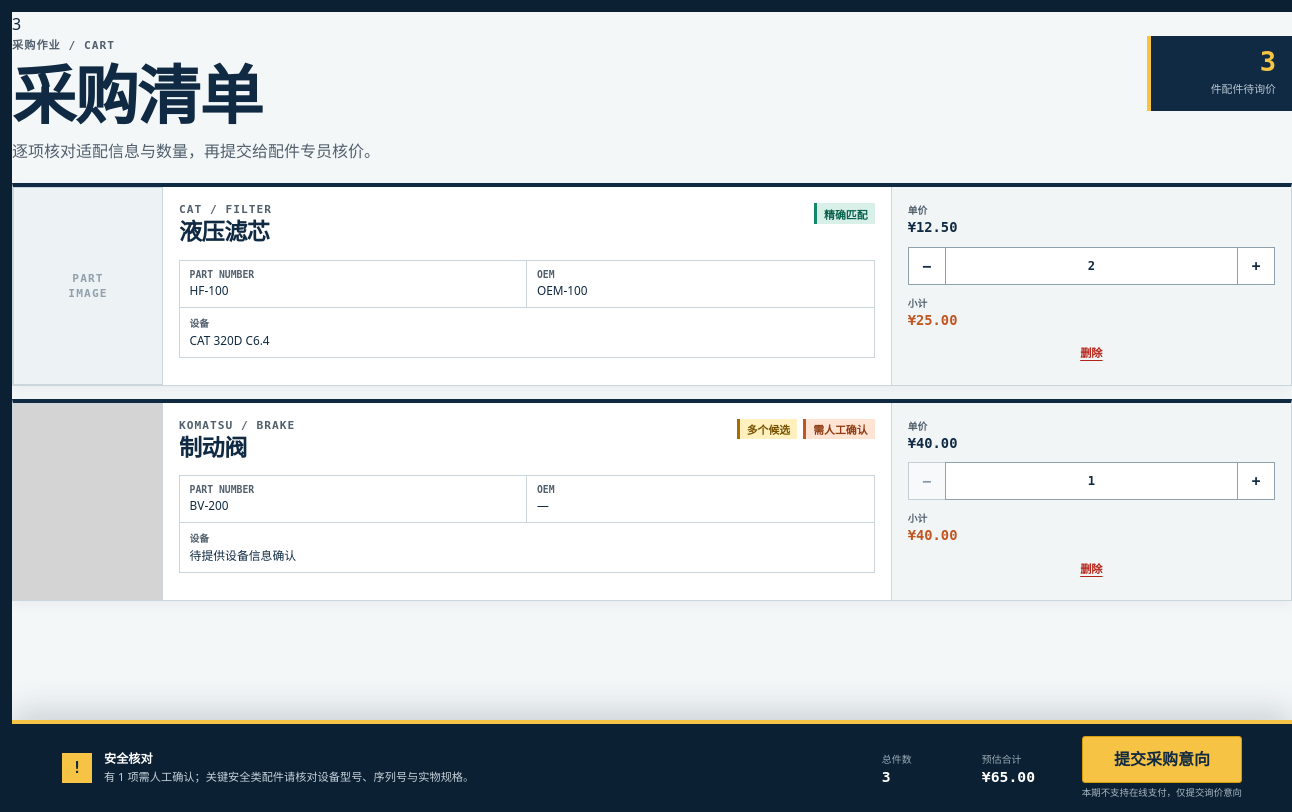
Test case: CartPage › saves quantity on blur and rolls the input back when the request fails
The image size is (1292, 812).
Check: the heading "液压滤芯" is shown, box x1=179 y1=220 x2=272 y2=246
Replace the text in the number field named "数量" below "¥12.50" with "7". click: (1091, 266)
box: x1=945 y1=247 x2=1238 y2=285
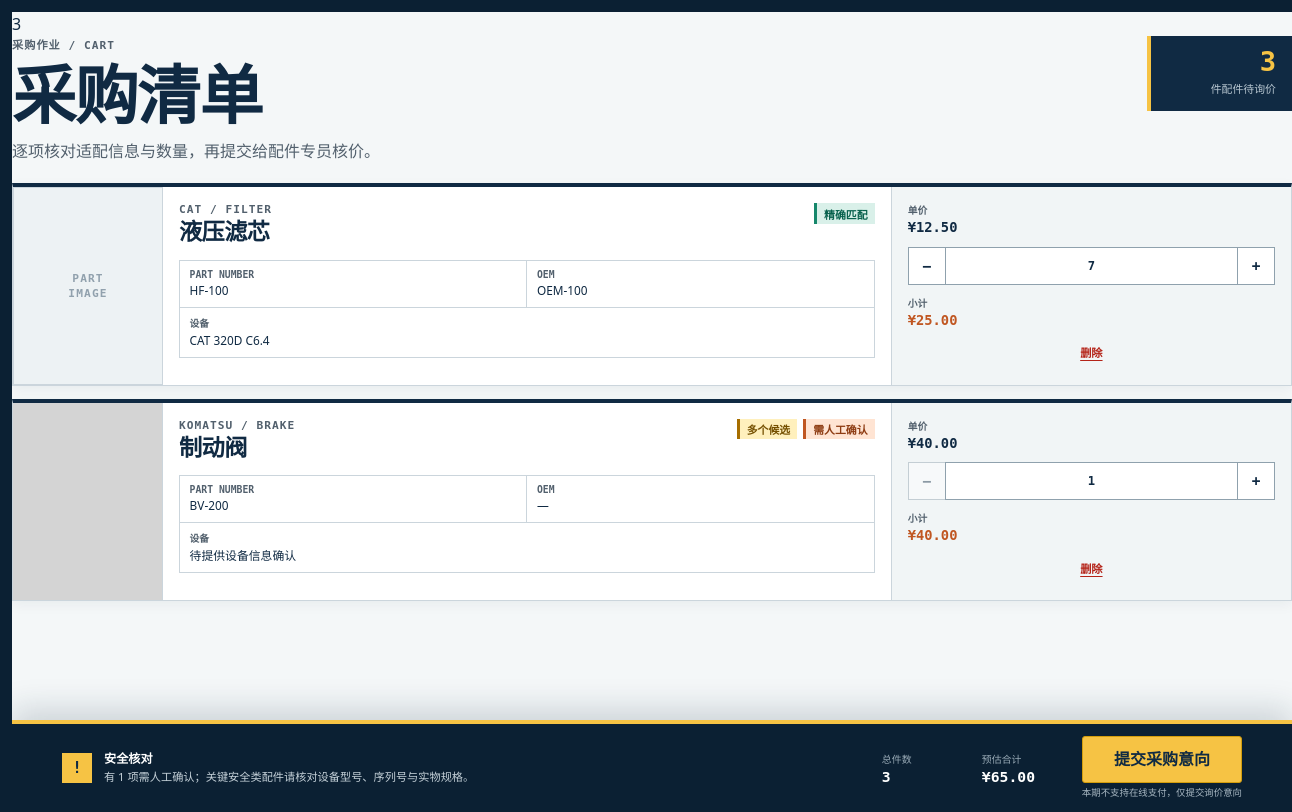
Leave the number field named "数量" below "¥12.50", box x1=945 y1=247 x2=1238 y2=285
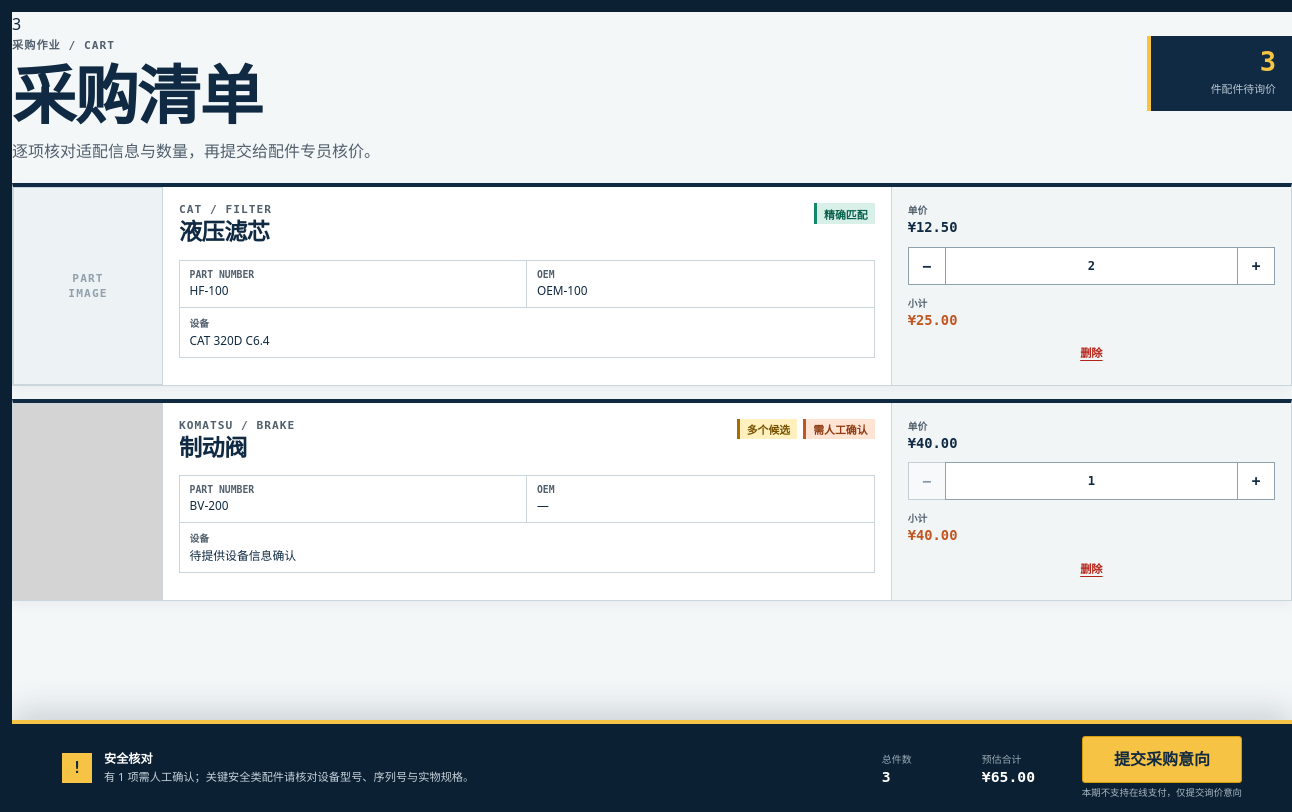
Check: the text "¥25.00" is shown, box x1=908 y1=312 x2=957 y2=328
Check: the number field named "数量" below "¥12.50" holds "2", box x1=945 y1=247 x2=1238 y2=285
